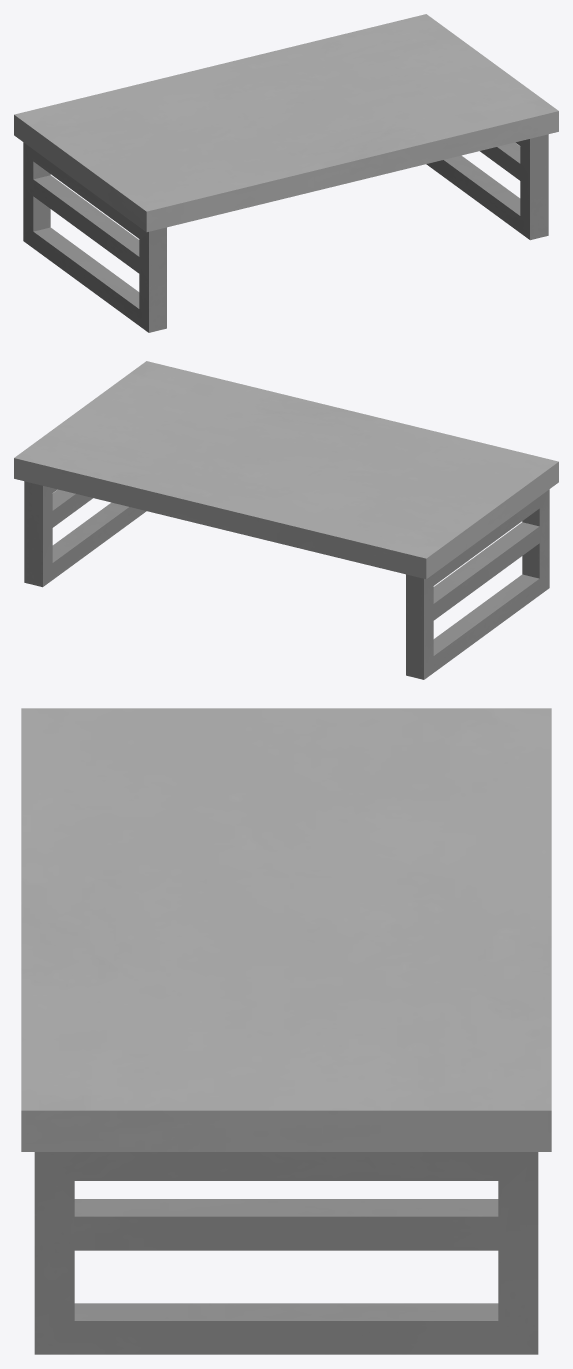
The model's file is Pfb_Table__9.fbx.
3 views of the same model, one above another, from view 1: azimuth 30°, elevation 25°; view 2: azimuth 150°, elevation 25°; view 3: azimuth 270°, elevation 25° (orthographic). The views are drawn at different scales.
Parts seen in each view (by area): view 1: Mat_Table_02_Black; view 2: Mat_Table_02_Black; view 3: Mat_Table_02_Black.
Boxes of the visible parts, x1=… form: Mat_Table_02_Black: x1=14, y1=14, x2=558, y2=332; Mat_Table_02_Black: x1=14, y1=361, x2=558, y2=679; Mat_Table_02_Black: x1=21, y1=708, x2=551, y2=1354.
Size of the model in its own units: 2.23 by 0.6468 by 1.24.
1 material, 1 textured.
